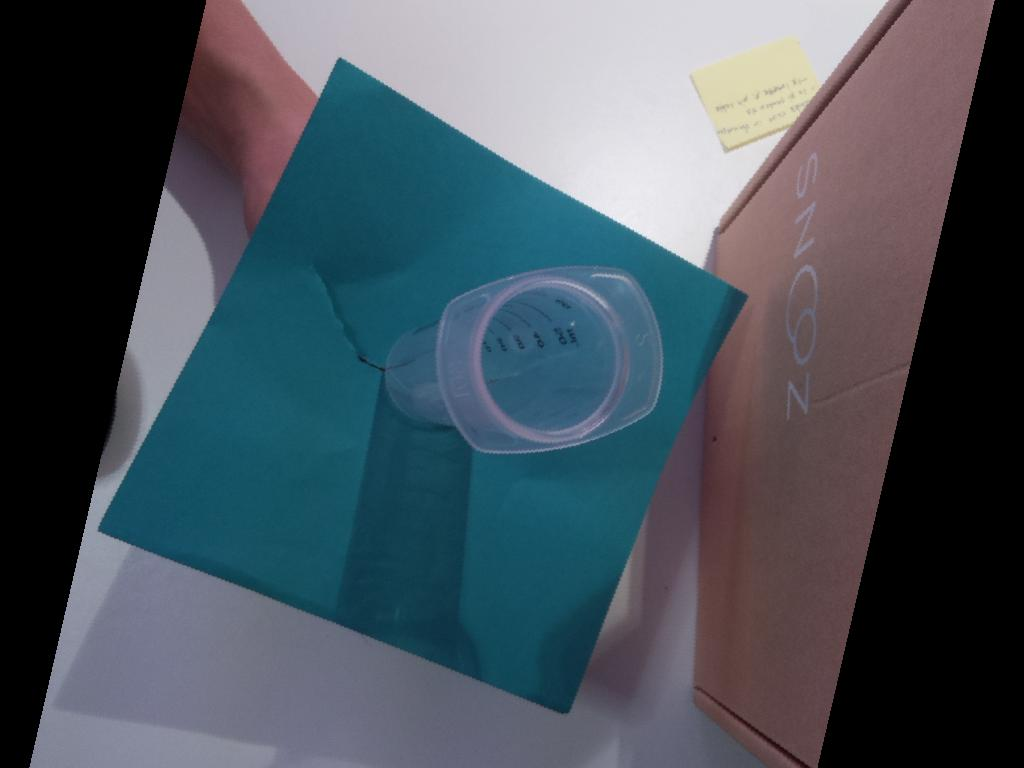clean: (436, 262, 666, 456)
